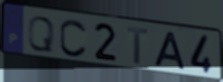2: (92, 22, 119, 65)
4: (188, 33, 216, 77)
A: (152, 30, 187, 72)
C: (59, 17, 89, 59)
Q: (26, 15, 56, 54)
T: (126, 26, 151, 67)
